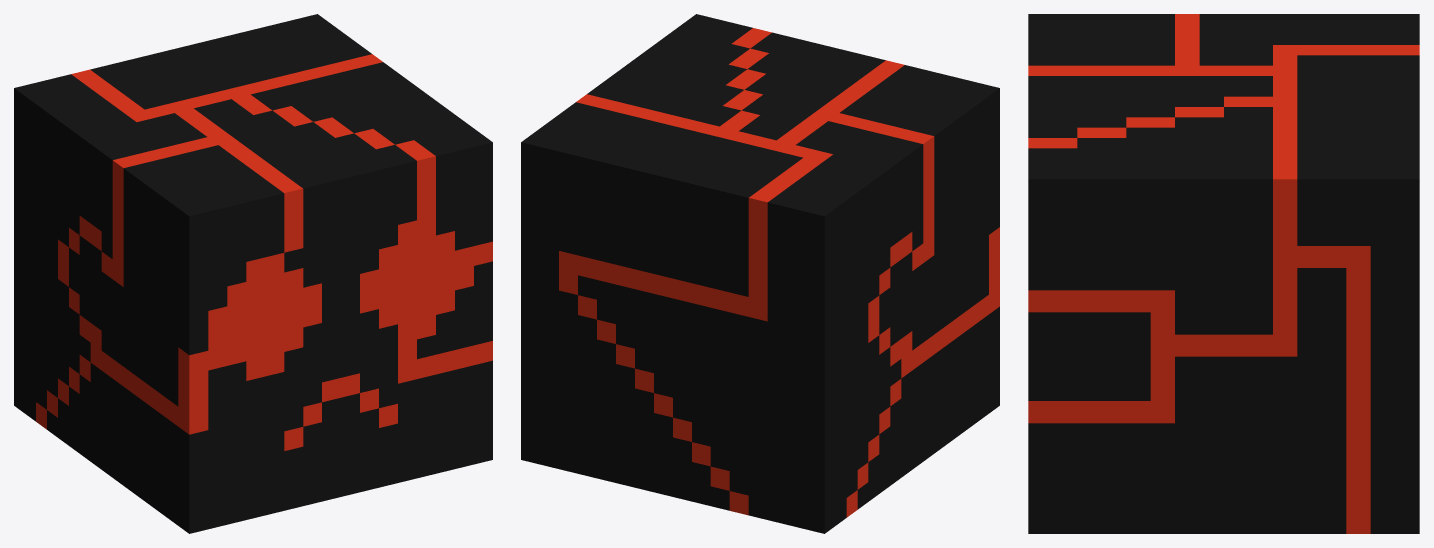
File: virus_mopping_idle.fbx
3 views of the same model, side by side, from view 1: azimuth 30°, elevation 25°; view 2: azimuth 150°, elevation 25°; view 3: azimuth 270°, elevation 25° (orthographic). The views are drawn at different scales.
Parts seen in each view (by area): view 1: virus_mopping_idle; view 2: virus_mopping_idle; view 3: virus_mopping_idle.
Part boxes in pixels (x1=…): virus_mopping_idle: x1=14, y1=14, x2=492, y2=533; virus_mopping_idle: x1=521, y1=14, x2=999, y2=533; virus_mopping_idle: x1=1028, y1=14, x2=1419, y2=533.
Bounding box in the file's own units: 1.6 × 1.6 × 1.6.
1 material, 1 textured.
